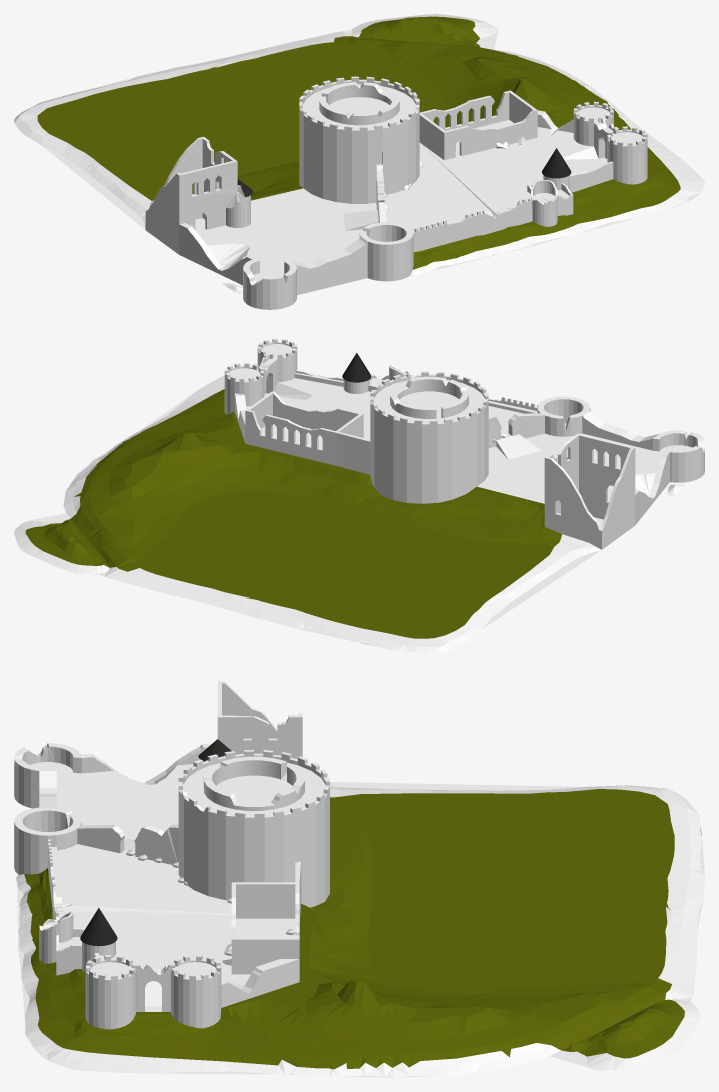
Rendered from TreasureIsland.gltf.
The picture shows the model from 3 angles, top to bottom: view 1: azimuth 30°, elevation 25°; view 2: azimuth 150°, elevation 25°; view 3: azimuth 270°, elevation 25°; orthographic projection. The views are drawn at different scales.
Parts seen in each view (by area): view 1: group_0, group_1.001, group_0.001; view 2: group_1.001, group_0, group_0.001; view 3: group_1.001, group_0, group_0.001.
Boxes of the visible parts, <box> form: group_0: <box>145,76,647,309</box>; group_1.001: <box>14,14,704,275</box>; group_0.001: <box>319,82,399,125</box>; group_1.001: <box>14,373,601,652</box>; group_0: <box>224,338,704,549</box>; group_0.001: <box>390,376,468,418</box>; group_1.001: <box>16,782,704,1077</box>; group_0: <box>14,681,329,1029</box>; group_0.001: <box>203,756,304,810</box>.
Size of the model in its own units: 8.25 by 1.6 by 8.14.
